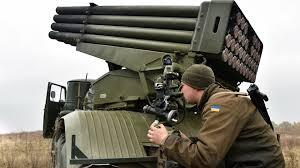MIL_SAM_TEL: (50, 1, 268, 168)
